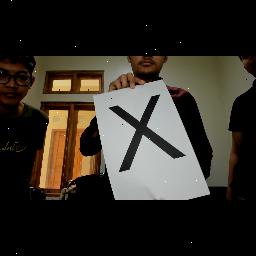x: (106, 92, 192, 174)
